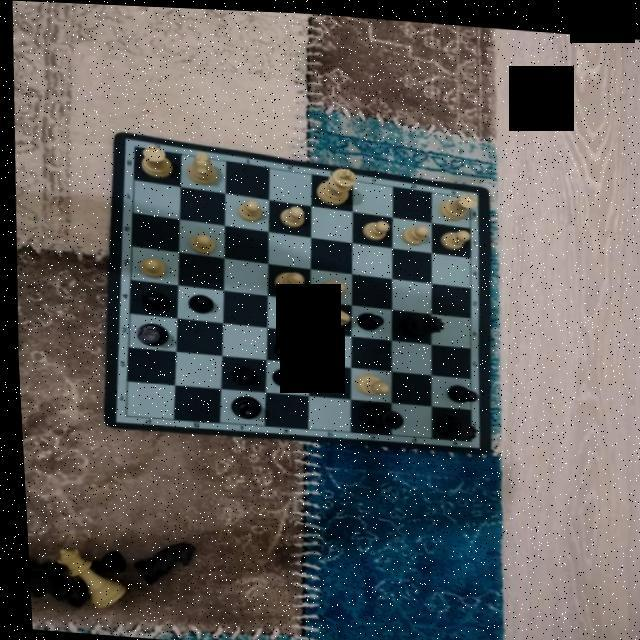chess-table-corners: (452, 429, 476, 445), (111, 406, 131, 424), (122, 139, 144, 154)
